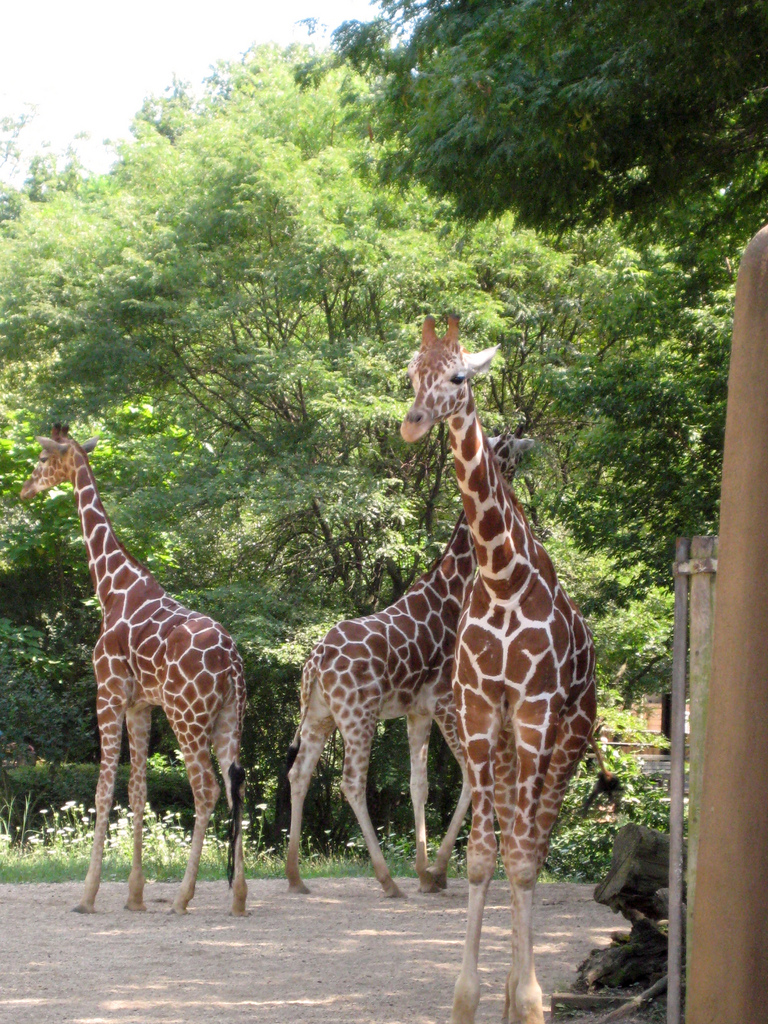giraffe: (389, 304, 615, 998), (33, 399, 258, 919), (289, 441, 522, 893)
